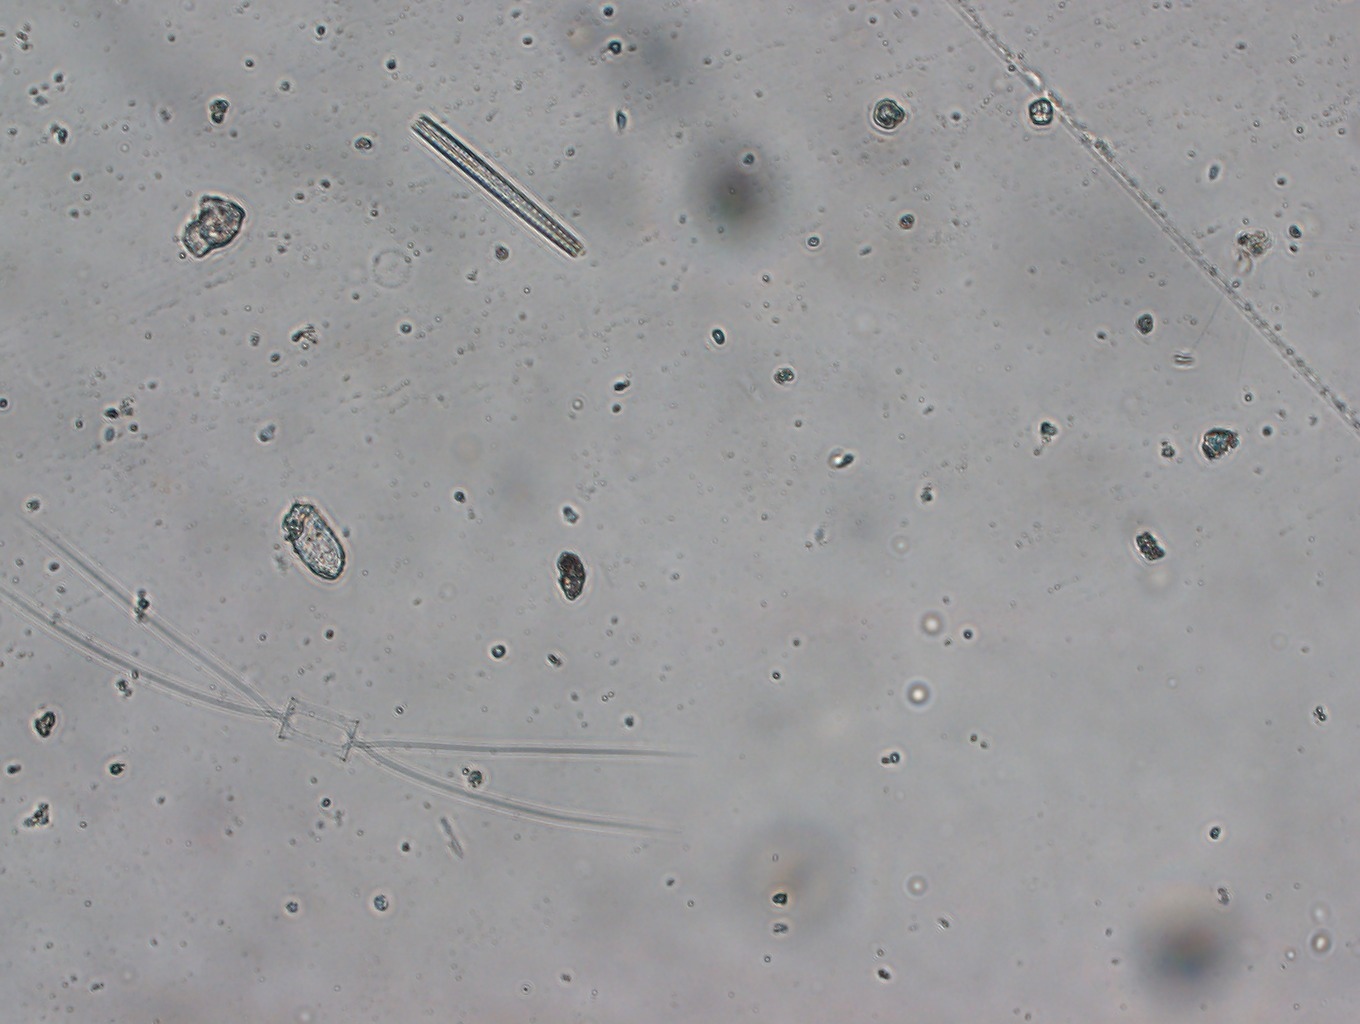chaetoceros: (1, 511, 698, 858)
